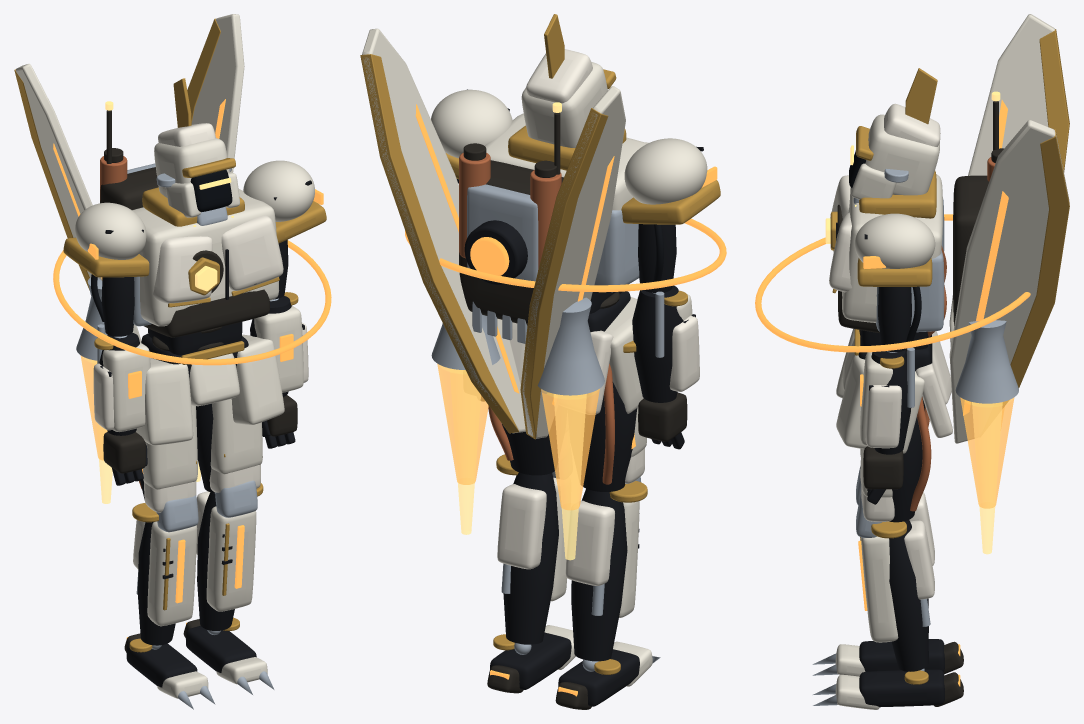
File: courier.glb
3 views of the same model, side by side, from view 1: azimuth 30°, elevation 25°; view 2: azimuth 150°, elevation 25°; view 3: azimuth 270°, elevation 25° (orthographic). The views are drawn at different scales.
Parts seen in each view (by area): view 1: Chest, BinderRight, BinderLeft, Skirt-1, ShinGuard.001, ShinGuard, Pec1, Skirt1, Pauldron, Pauldron.001, ChestUnder, HaloRing (+40 smaller); view 2: BinderRight, BinderEdgeRight, BinderLeft, BinderEdgeLeft, Shin.001, Shin, PlumeOuter, Pauldron, BellLeft, PlumeOuter.001, Pauldron.001, Forearm (+39 smaller); view 3: BinderRight, BinderLeft, BinderEdgeRight, PlumeOuter.001, Shin.001, BellRight, Pauldron.001, Helm, PlumeCore.001, ShinGuard.001, Chest, HaloRing (+30 smaller).
Part boxes in pixels (box(x1,y1,x2,y2)): Chest: box(132, 189, 279, 326); BinderRight: box(191, 14, 244, 172); BinderLeft: box(15, 64, 141, 342); Skirt-1: box(136, 358, 193, 445); ShinGuard.001: box(206, 506, 256, 611); ShinGuard: box(147, 521, 197, 626); Pec1: box(221, 215, 283, 290); Skirt1: box(231, 334, 284, 424); Pauldron: box(75, 202, 146, 259); Pauldron.001: box(243, 160, 314, 221); ChestUnder: box(144, 289, 269, 337); HaloRing: box(53, 240, 331, 365); BinderRight: box(362, 28, 525, 433); BinderEdgeRight: box(360, 54, 518, 433); BinderLeft: box(522, 86, 625, 438); BinderEdgeLeft: box(520, 108, 608, 439); Shin.001: box(503, 472, 558, 644); Shin: box(571, 488, 627, 661); PlumeOuter: box(541, 388, 599, 510); Pauldron: box(624, 138, 707, 204); BellLeft: box(537, 297, 604, 395); PlumeOuter.001: box(437, 363, 488, 484); Pauldron.001: box(431, 89, 512, 158); Forearm: box(632, 285, 683, 402); BinderRight: box(949, 120, 1069, 443); BinderLeft: box(949, 14, 1055, 346); BinderEdgeRight: box(1002, 129, 1069, 408); PlumeOuter.001: box(960, 397, 1014, 508); Shin.001: box(889, 520, 928, 671); BellRight: box(955, 320, 1018, 403); Pauldron.001: box(854, 213, 935, 268); Helm: box(865, 114, 939, 195); PlumeCore.001: box(972, 402, 1002, 554); ShinGuard.001: box(861, 536, 898, 642); Chest: box(842, 174, 942, 322); HaloRing: box(755, 214, 1030, 352).
Bounding box in the file's own units: 1.02 × 2.37 × 1.09.
